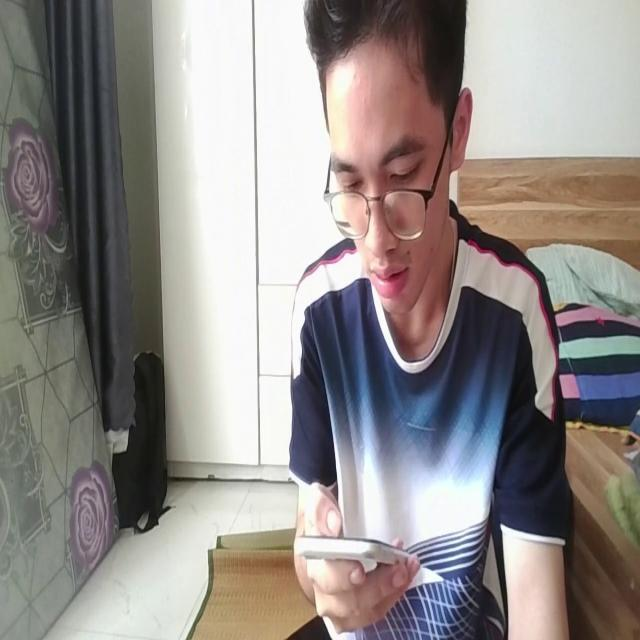phone: (290, 520, 424, 583)
student: (272, 6, 577, 640)
